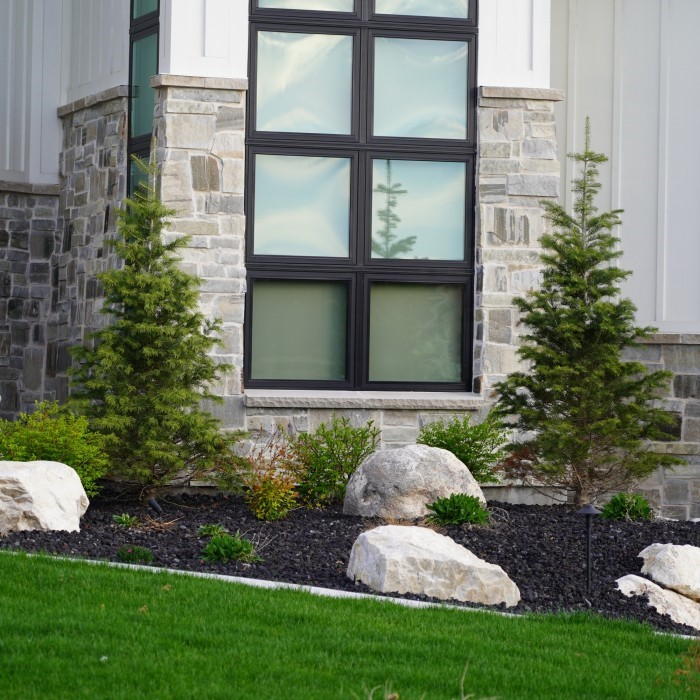dirt: (83, 489, 349, 582), (496, 506, 634, 609)
grass: (0, 553, 700, 697)
rock: (348, 525, 521, 616), (342, 442, 484, 520), (0, 457, 91, 537), (619, 538, 696, 629)
